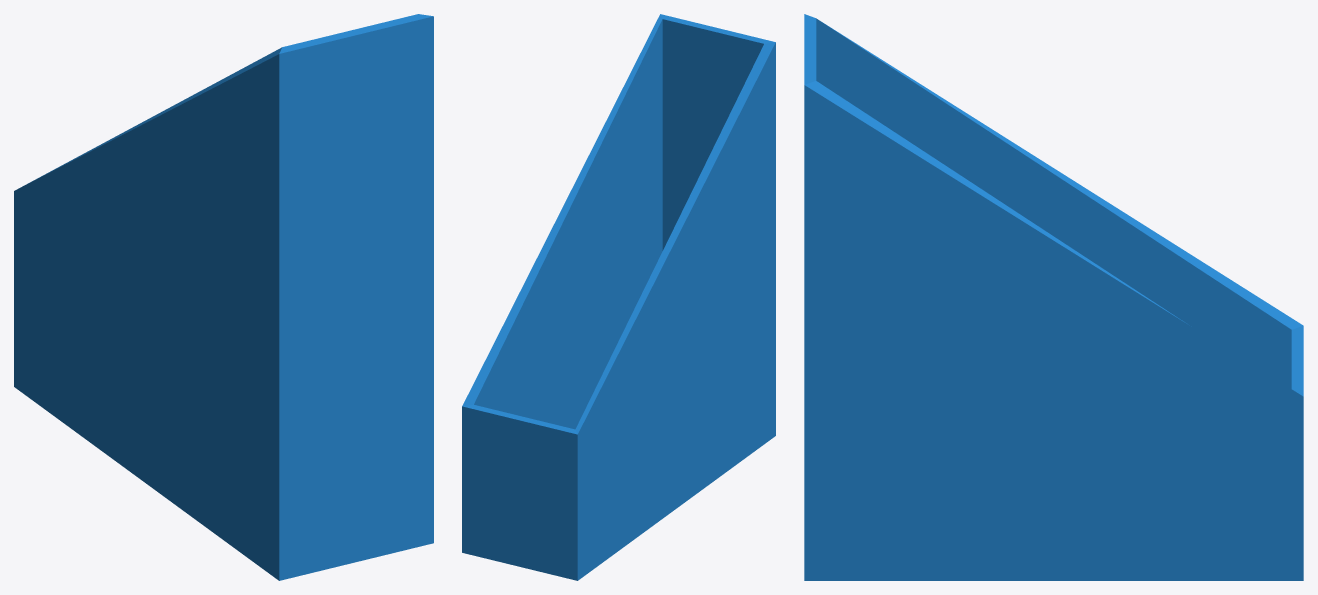
The model's file is paperstand.fbx.
The picture shows the model from 3 angles, left to right: view 1: azimuth 30°, elevation 25°; view 2: azimuth 150°, elevation 25°; view 3: azimuth 270°, elevation 25°; orthographic projection. The views are drawn at different scales.
Parts seen in each view (by area): view 1: Cube.119; view 2: Cube.119; view 3: Cube.119.
Boxes of the visible parts, x1=… form: Cube.119: x1=14, y1=14, x2=433, y2=580; Cube.119: x1=462, y1=14, x2=775, y2=580; Cube.119: x1=804, y1=14, x2=1303, y2=580.
Bounding box in the file's own units: 67.36 × 219 × 200.
